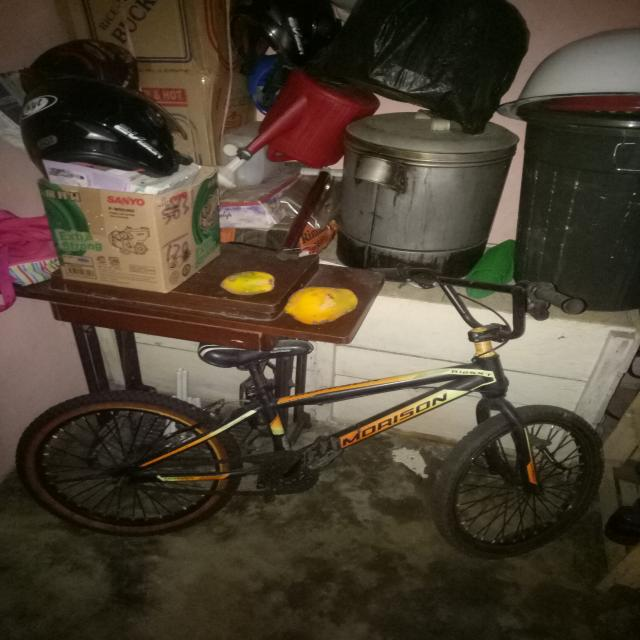Pepaya rippen: (281, 284, 365, 328), (217, 268, 283, 298)
